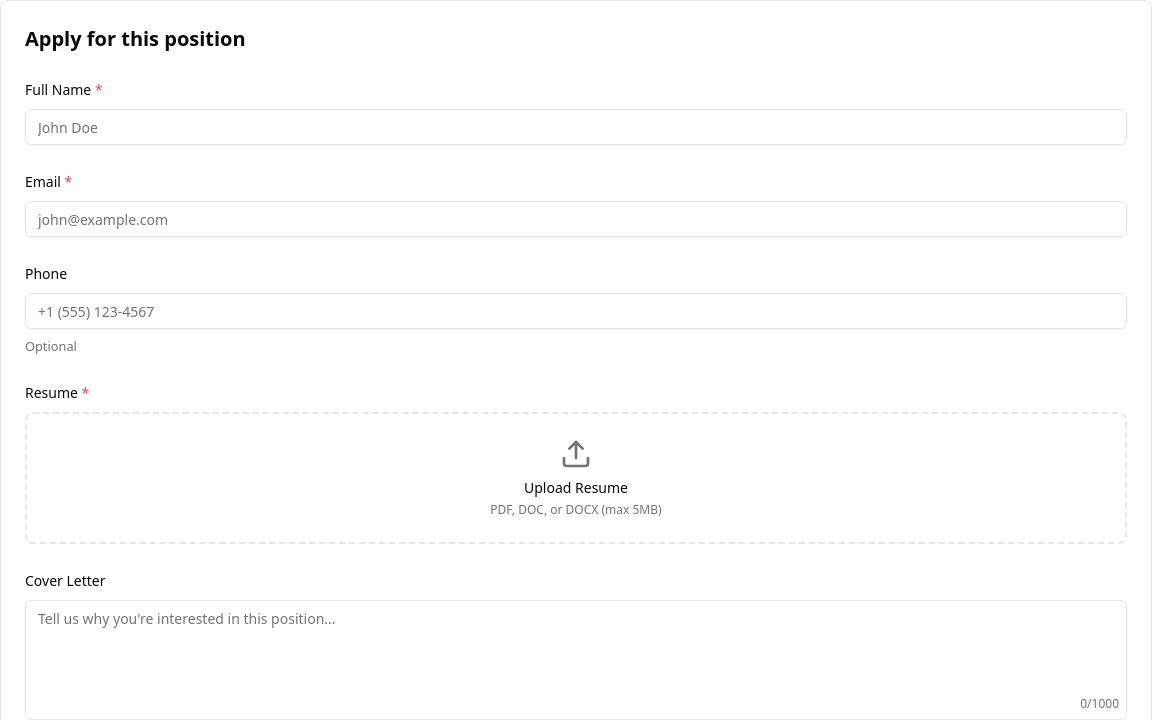
Test: ApplicationSection › shows character count for cover letter
The width and height of the screenshot is (1152, 720).
Type "This is my cover letter." into the text box labelled "Cover Letter" at (576, 660), box [25,600,1127,719]
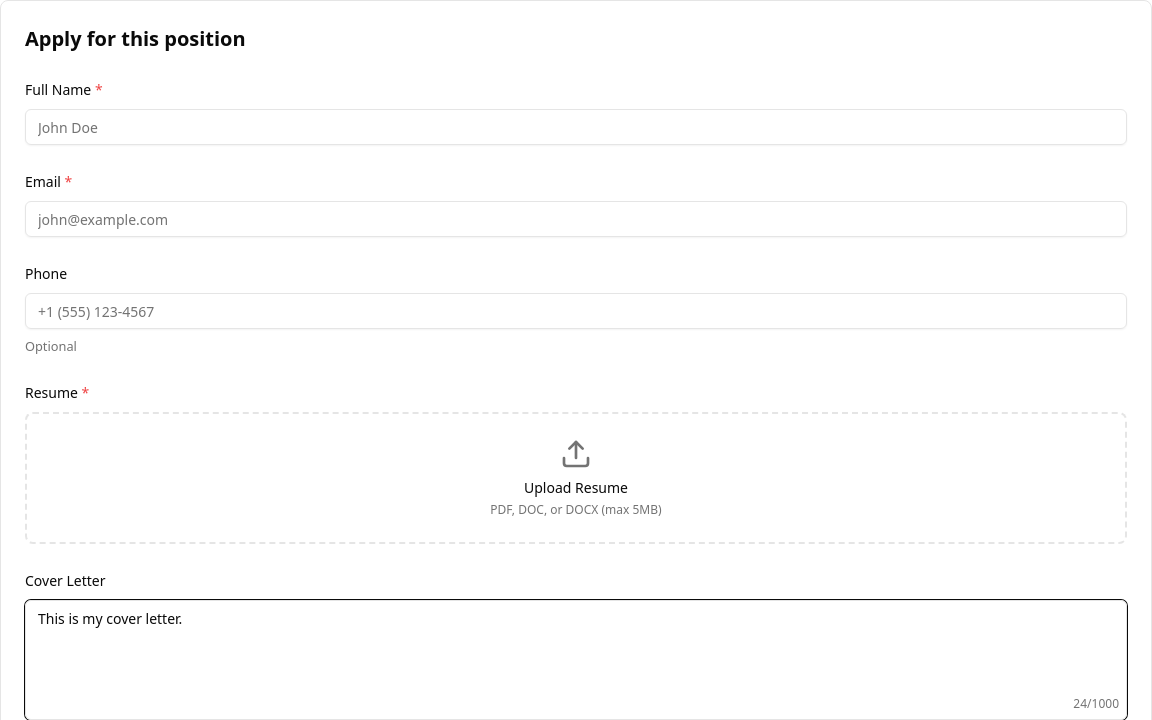
Expected: the text "24/1000" is shown, [1073,696,1119,712]
